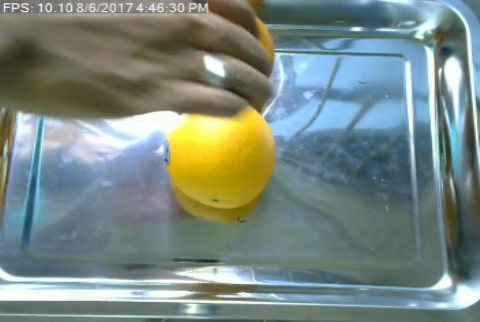Orange: (165, 110, 276, 206)
